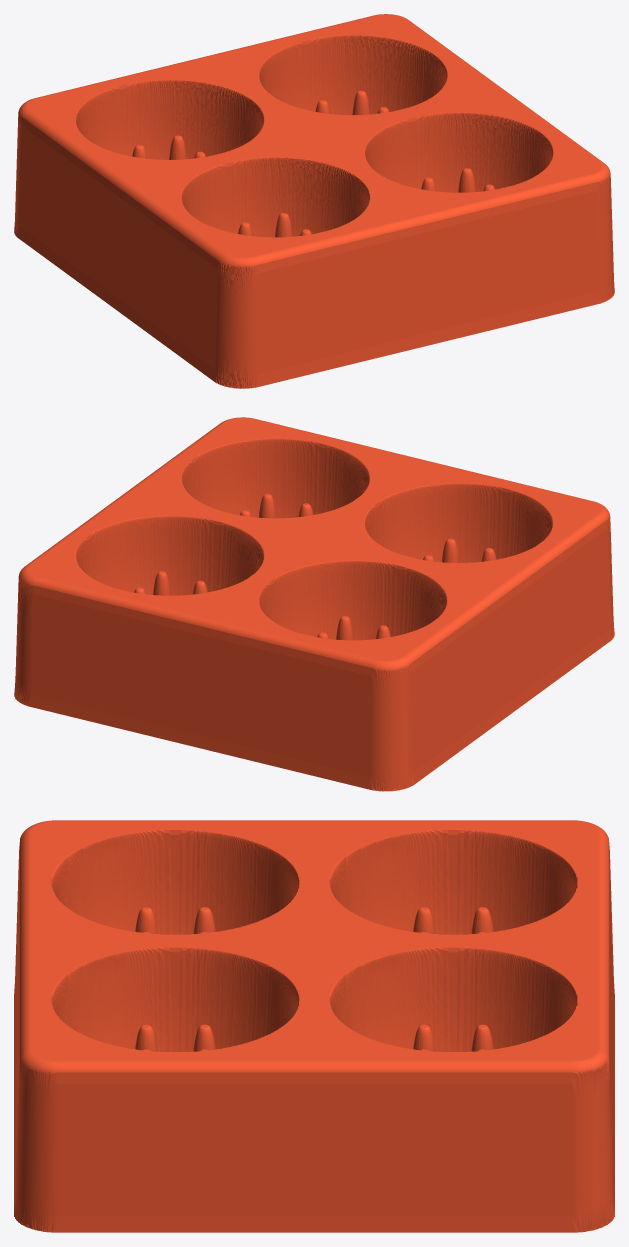
File: mold.glb
3 renders of one model, top to bottom at view 1: azimuth 30°, elevation 25°; view 2: azimuth 150°, elevation 25°; view 3: azimuth 270°, elevation 25°, orthographic. The views are drawn at different scales.
Visible parts, largest first — view 1: geometry_0; view 2: geometry_0; view 3: geometry_0.
Boxes of the visible parts, x1=… form: geometry_0: x1=14, y1=14, x2=614, y2=388; geometry_0: x1=14, y1=417, x2=614, y2=791; geometry_0: x1=14, y1=820, x2=614, y2=1232.
Bounding box in the file's own units: 0.1248 × 0.0377 × 0.1248.
